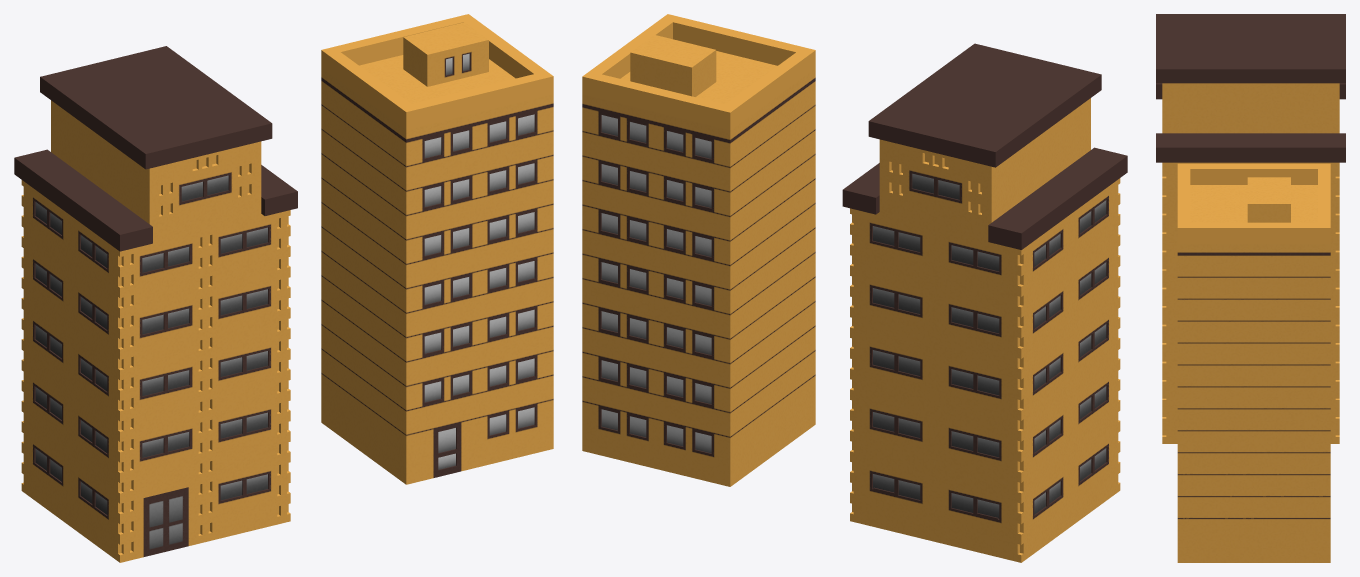
The model's file is City_04.fbx.
3 renders of one model, left to right at view 1: azimuth 30°, elevation 25°; view 2: azimuth 150°, elevation 25°; view 3: azimuth 270°, elevation 25°, orthographic. The views are drawn at different scales.
Visible parts, largest first — view 1: Building_08, Building_9; view 2: Building_08, Building_9; view 3: Building_9, Building_08.
Boxes of the visible parts, left/top/right/bottom form: Building_08: left=14, top=46, right=297, bottom=562; Building_9: left=321, top=14, right=553, bottom=484; Building_08: left=842, top=43, right=1127, bottom=562; Building_9: left=582, top=14, right=815, bottom=486; Building_9: left=1177, top=163, right=1330, bottom=562; Building_08: left=1156, top=14, right=1345, bottom=443.
Size of the model in its own units: 363 by 316 by 149.
